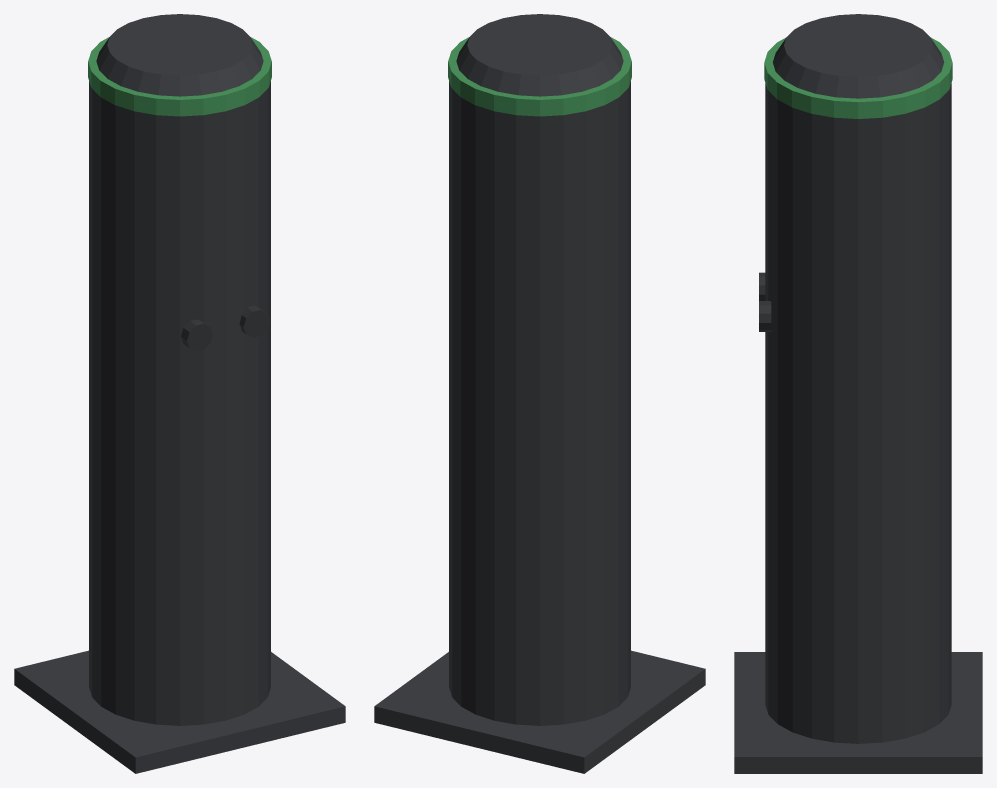
The picture shows the model from 3 angles, left to right: view 1: azimuth 30°, elevation 25°; view 2: azimuth 150°, elevation 25°; view 3: azimuth 270°, elevation 25°; orthographic projection. The views are drawn at different scales.
Parts seen in each view (by area): view 1: baseOffset=0;depth=0.3;height=1.2;material=steel_dark;power= (×3); view 2: baseOffset=0;depth=0.3;height=1.2;material=steel_dark;power= (×2); view 3: baseOffset=0;depth=0.3;height=1.2;material=steel_dark;power= (×3).
Boxes of the visible parts, x1=… form: baseOffset=0;depth=0.3;height=1.2;material=steel_dark;power= (×3): x1=14, y1=14, x2=345, y2=773; baseOffset=0;depth=0.3;height=1.2;material=steel_dark;power= (×2): x1=374, y1=14, x2=705, y2=773; baseOffset=0;depth=0.3;height=1.2;material=steel_dark;power= (×3): x1=734, y1=14, x2=982, y2=773.
Size of the model in its own units: 0.4 by 0.4 by 1.2.
